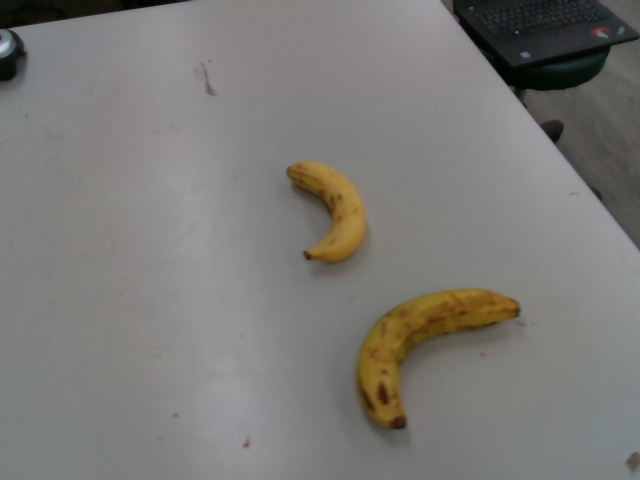banana: (352, 287, 523, 431), (283, 161, 369, 266)
